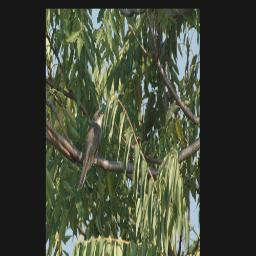Cuckoo: (75, 108, 106, 194)
